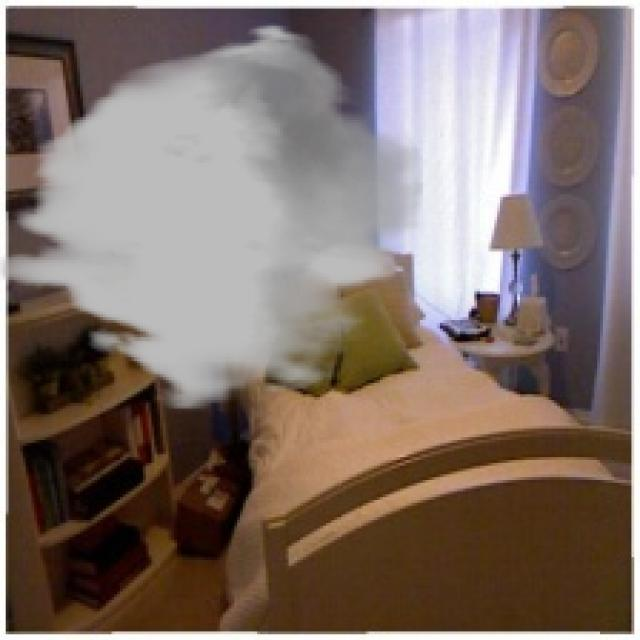smoke: (0, 23, 423, 411)
